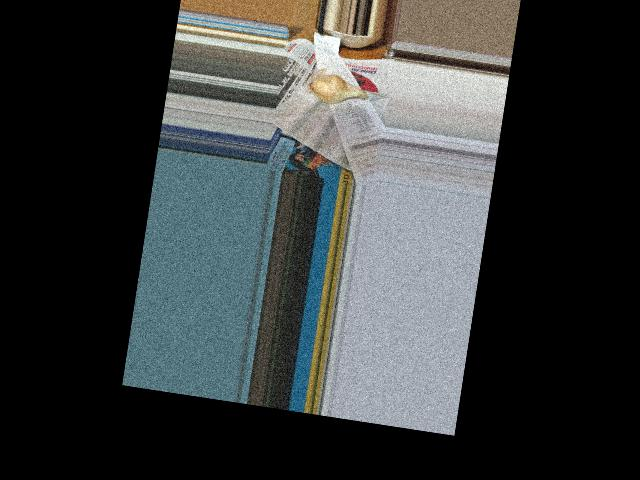onion: (308, 73, 363, 109)
